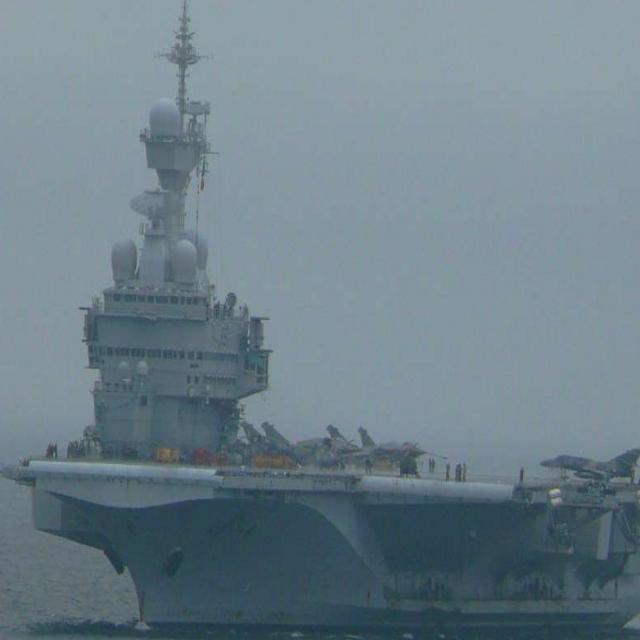Portanaves: (6, 1, 640, 640)
